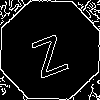Z: (25, 25, 70, 79)
